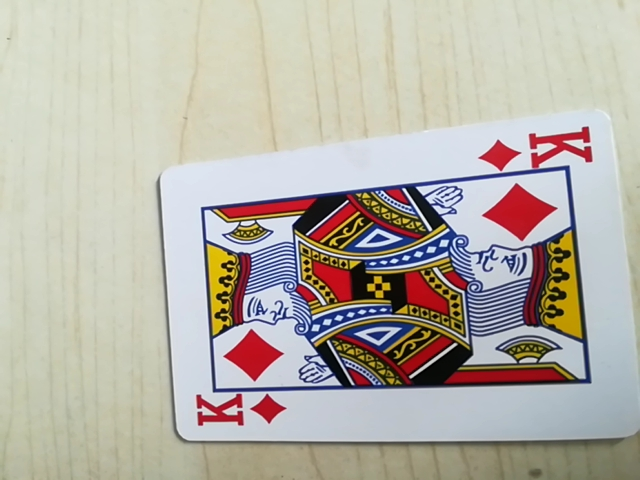fk k: (483, 126, 596, 176), (187, 389, 281, 436)
